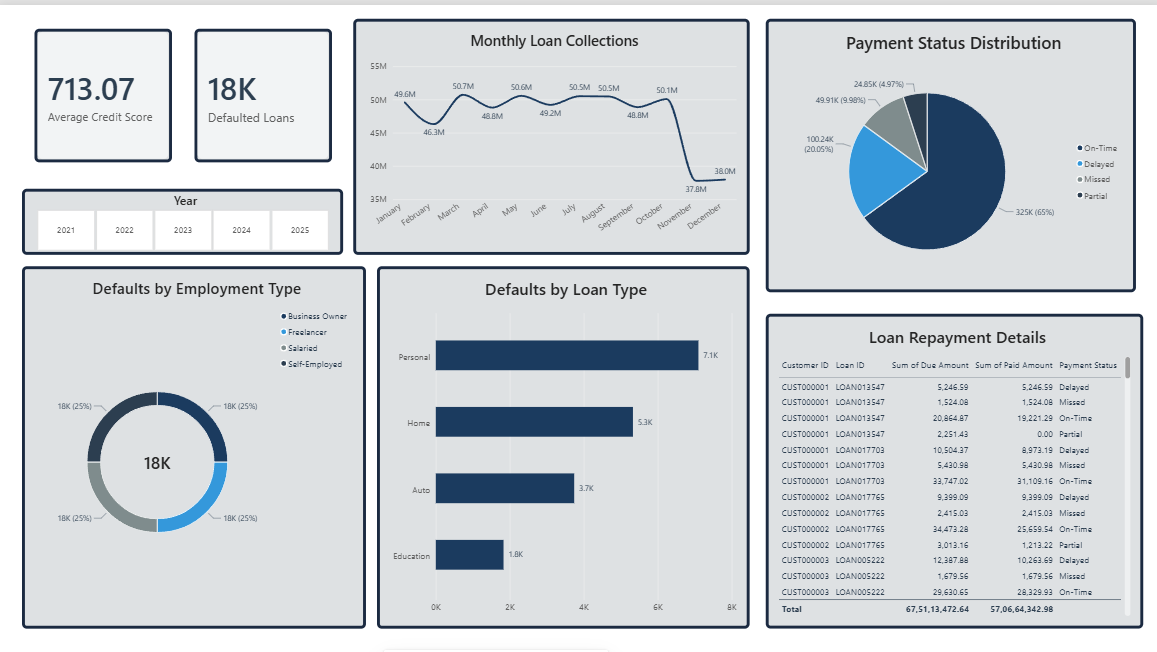

The dashboard page shown, as its layout file describes it:
{"tool":"powerbi","page":{"name":"Credit Risk & Payment Analysis","canvas":[1920,1080],"ordinal":1},"visuals":[{"type":"cardVisual","fields":{"Data":["customers.Average Credit Score"]},"box":[61.7,39.1,226.4,220.2],"z":0},{"type":"cardVisual","fields":{"Data":["loans.Defaulted Loans"]},"box":[325.2,39.1,226,220],"z":1000},{"type":"clusteredBarChart","title":"Defaults by Loan Type","fields":{"Category":["loans.Loan Type"],"Y":["loans.Defaulted Loans"]},"box":[625.7,430.2,613.4,596.9],"z":2000},{"type":"donutChart","title":"Defaults by Employment Type","fields":{"Category":["customers.Employment Type"],"Y":["CountNonNull(loans.Loan ID)"]},"box":[41.2,430.2,566,596.9],"z":3000},{"type":"pieChart","title":"Payment Status Distribution","fields":{"Category":["payments.Payment Status"],"Y":["CountNonNull(payments.Payment ID)"]},"box":[1265.9,22.6,609.3,450.8],"z":4000},{"type":"tableEx","title":"Loan Repayment Details","fields":{"Values":["payments.Customer ID","payments.Loan ID","Sum(payments.Due Amount)","Sum(payments.Paid Amount)","payments.Payment Status"]},"box":[1265.9,508.4,621.6,518.7],"z":5000},{"type":"lineChart","title":"\tMonthly Loan Collections","fields":{"Category":["payments.Payment Date.Variation.Date Hierarchy.Month"],"Y":["Sum(payments.Paid Amount)"]},"box":[586.6,22.6,652.5,389],"z":6000},{"type":"slicer","title":"Year","fields":{"Values":["payments.Payment Date.Variation.Date Hierarchy.Year"]},"box":[41.2,302.6,529,109.1],"z":7000}]}

Visuals, with their boxes in screenshot pixels (x1, y1, x2, y2), scaled from the page's 1920x1080 canvas onto the 1157x652 screenshot:
cardVisual - customers.Average Credit Score: 37, 24, 174, 157
cardVisual - loans.Defaulted Loans: 196, 24, 332, 156
"Defaults by Loan Type" clusteredBarChart: 377, 260, 747, 620
"Defaults by Employment Type" donutChart: 25, 260, 366, 620
"Payment Status Distribution" pieChart: 763, 14, 1130, 286
"Loan Repayment Details" tableEx: 763, 307, 1137, 620
"	Monthly Loan Collections" lineChart: 353, 14, 747, 248
"Year" slicer: 25, 183, 344, 249
